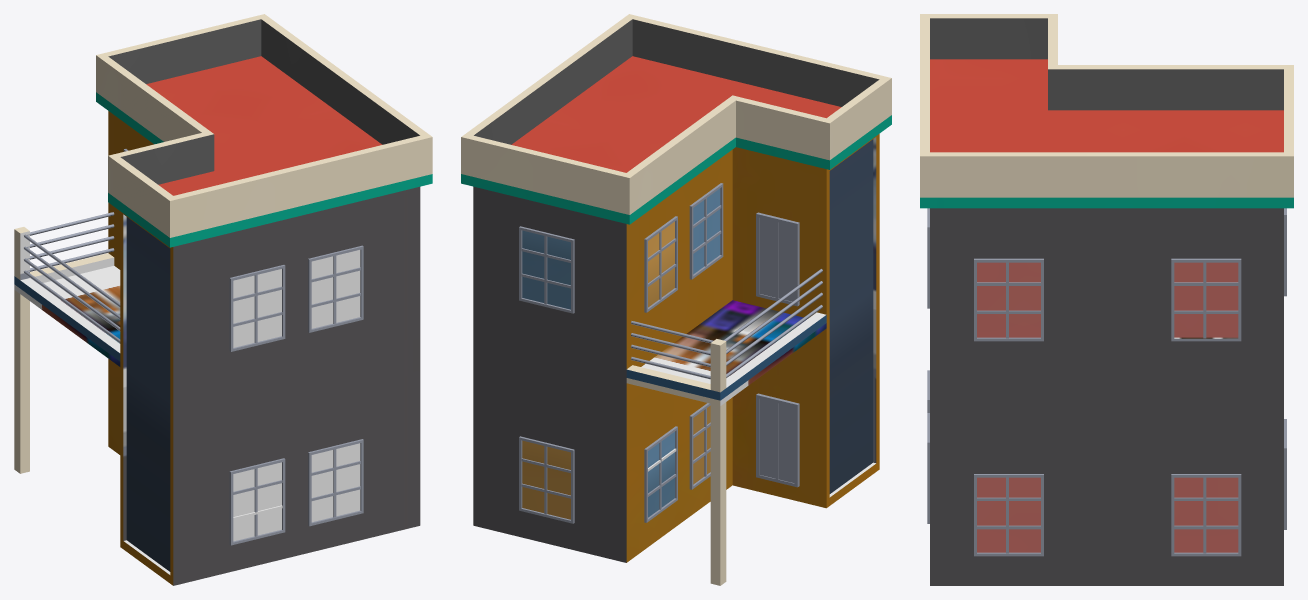
Rendered from house_3.fbx.
The picture shows the model from 3 angles, left to right: view 1: azimuth 30°, elevation 25°; view 2: azimuth 150°, elevation 25°; view 3: azimuth 270°, elevation 25°; orthographic projection. The views are drawn at different scales.
Visible parts, largest first — view 1: house_1; view 2: house_1; view 3: house_1.
Boxes of the visible parts, box(x1,y1,x2,y2) form: house_1: box(14, 14, 432, 585); house_1: box(461, 14, 891, 585); house_1: box(920, 14, 1293, 585).
Bounding box in the file's own units: 71.39 × 101 × 79.14.
